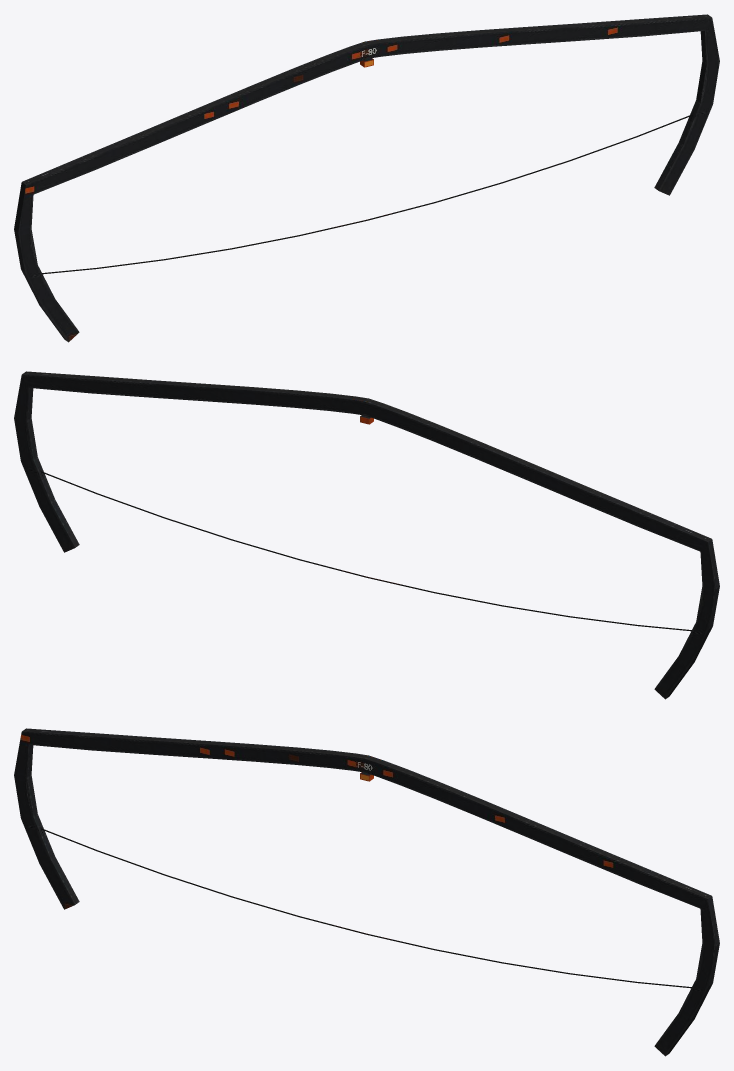
Rendered from hull_rib_arch.glb.
3 views of the same model, one above another, from view 1: azimuth 30°, elevation 25°; view 2: azimuth 150°, elevation 25°; view 3: azimuth 330°, elevation 25° (orthographic).
Parts seen in each view (by area): view 1: hull_rib_arch; view 2: hull_rib_arch; view 3: hull_rib_arch.
Part boxes in pixels (x1=…): hull_rib_arch: x1=14, y1=14, x2=719, y2=342; hull_rib_arch: x1=14, y1=371, x2=719, y2=699; hull_rib_arch: x1=14, y1=728, x2=719, y2=1056.
Size of the model in its own units: 37.1 by 11.34 by 0.4.
1 material, 1 textured.
